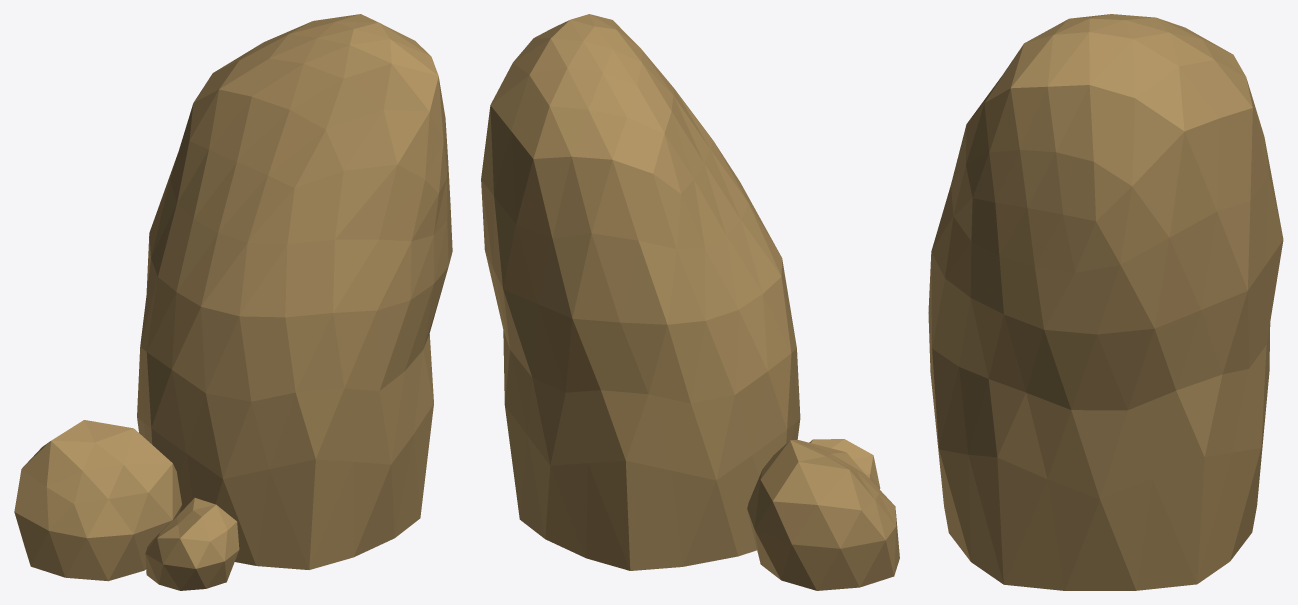
Rendered from Stone4.fbx.
3 views of the same model, side by side, from view 1: azimuth 30°, elevation 25°; view 2: azimuth 150°, elevation 25°; view 3: azimuth 270°, elevation 25° (orthographic). The views are drawn at different scales.
Visible parts, largest first — view 1: Stone4; view 2: Stone4; view 3: Stone4.
Boxes of the visible parts, box(x1,y1,x2,y2) form: Stone4: box(14, 14, 452, 590); Stone4: box(481, 14, 899, 590); Stone4: box(928, 14, 1283, 590).
Bounding box in the file's own units: 597 × 658 × 385.
